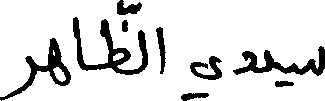ا: (72, 15, 82, 70), (156, 25, 165, 75)
د: (234, 48, 257, 75)
ر: (0, 53, 35, 99)
س: (291, 43, 323, 86)
ظ: (100, 16, 131, 75)
ل: (137, 18, 147, 74)
ه: (47, 36, 69, 86)
ي: (181, 53, 221, 99), (263, 47, 292, 87)
